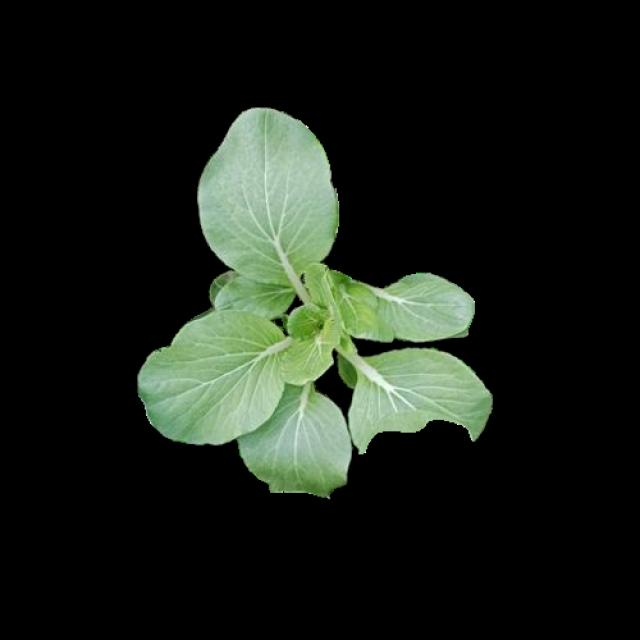healthy: (133, 102, 492, 496)
not-mature: (133, 105, 492, 499)
